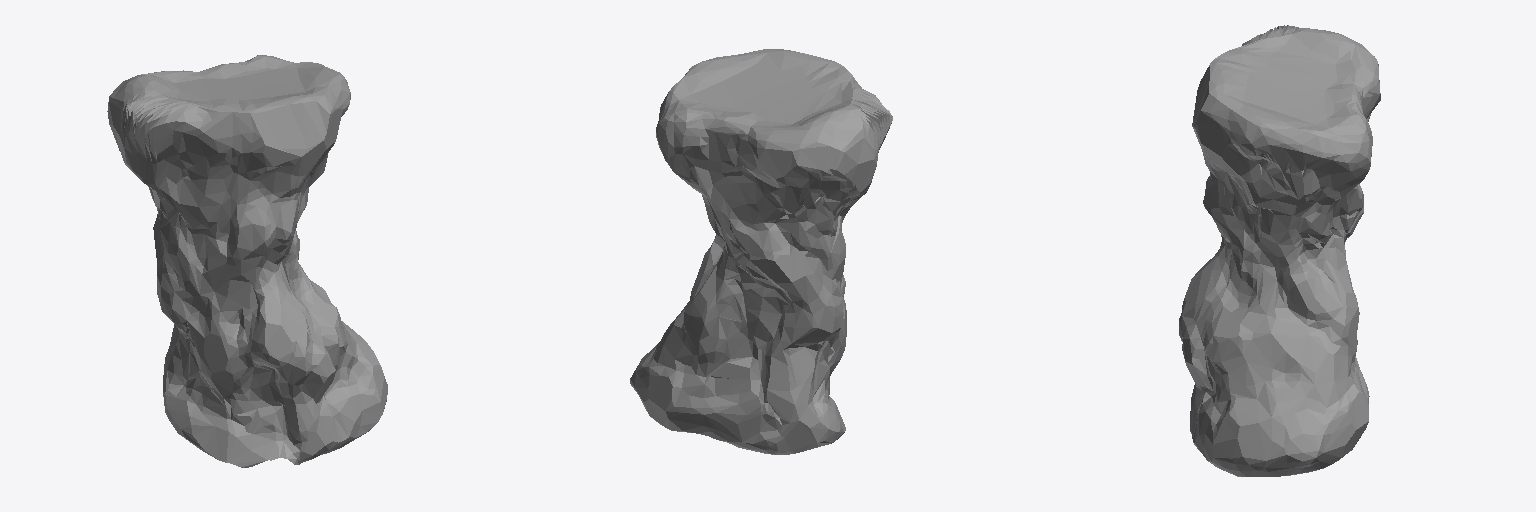
3 views of the same model, side by side, from view 1: azimuth 30°, elevation 25°; view 2: azimuth 150°, elevation 25°; view 3: azimuth 270°, elevation 25° (orthographic).
Visible parts, largest first — view 1: rock1_low_Group10834; view 2: rock1_low_Group10834; view 3: rock1_low_Group10834.
Boxes of the visible parts, <box> form: rock1_low_Group10834: <box>107,55,387,467</box>; rock1_low_Group10834: <box>630,49,892,454</box>; rock1_low_Group10834: <box>1179,25,1380,476</box>.
Size of the model in its own units: 3.47 by 4.87 by 2.47.